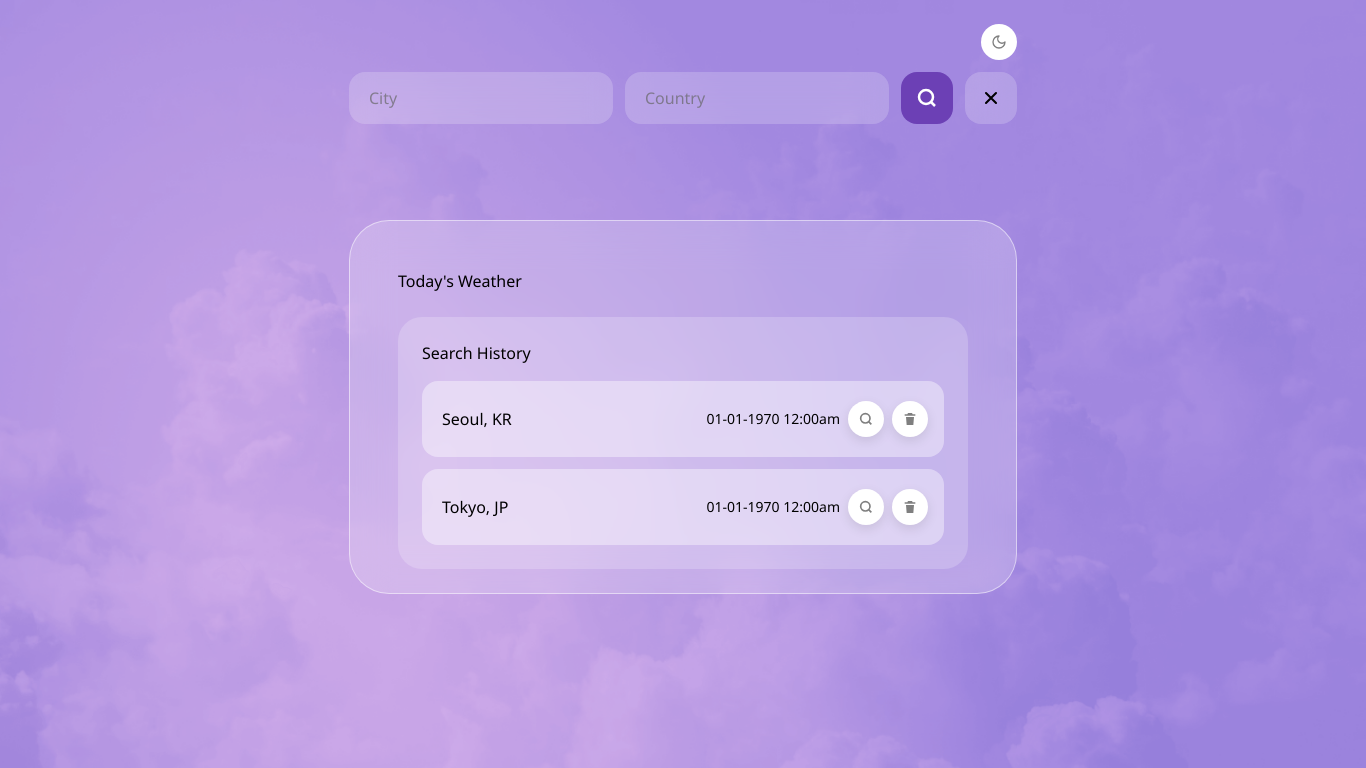
Test: search history › moves an existing city to the top instead of duplicating it
The image size is (1366, 768).
Type "Tokyo" into the field labelled "City". click: (481, 98)
box: [349,72,613,124]
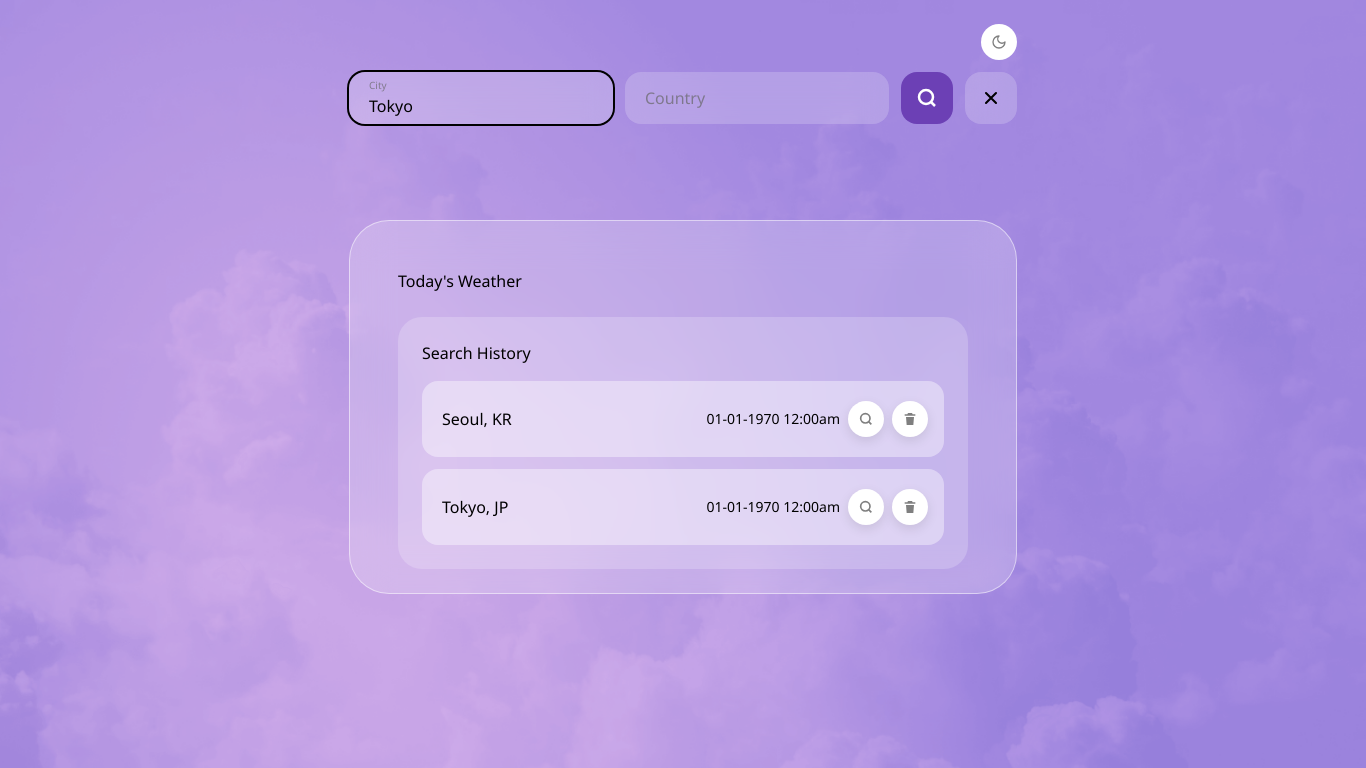
Click the button named "Search". click: (927, 98)
box: [901,72,953,124]
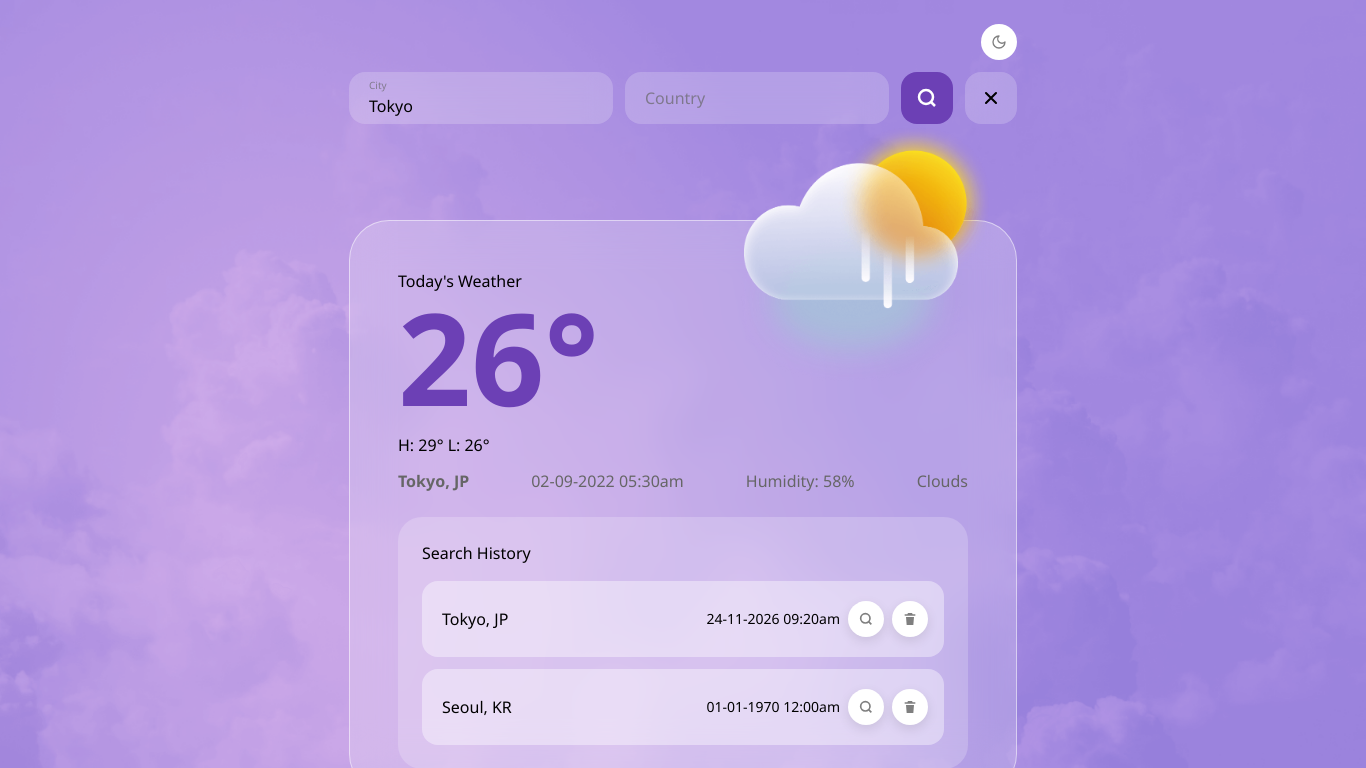
Check: the text "26°" is shown, box [398,269,599,444]
